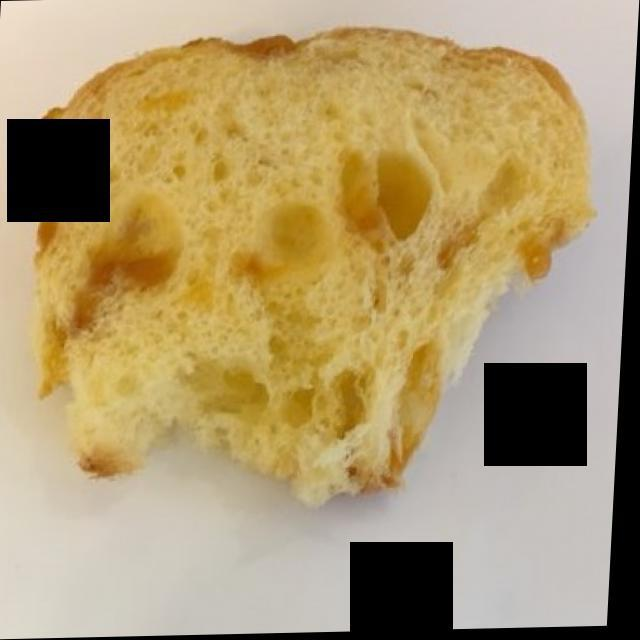bread: (39, 39, 586, 499)
